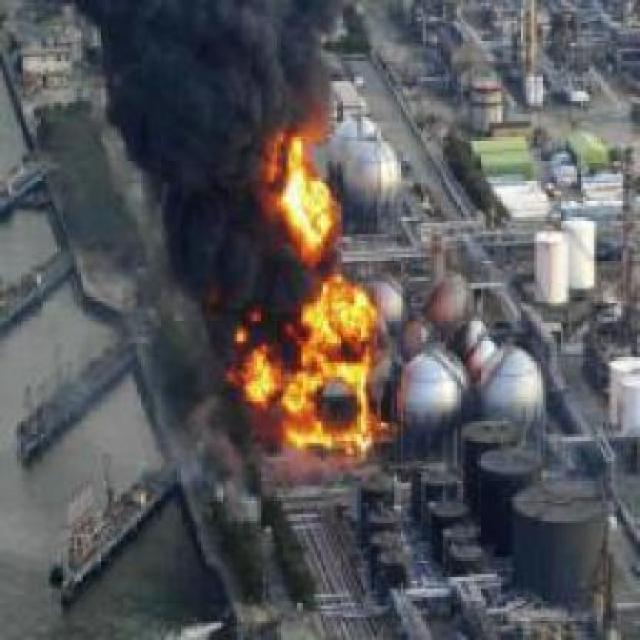Fire: (230, 105, 382, 455)
Smoke: (66, 0, 370, 106)
